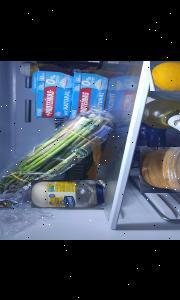Limón: (150, 60, 180, 90)
